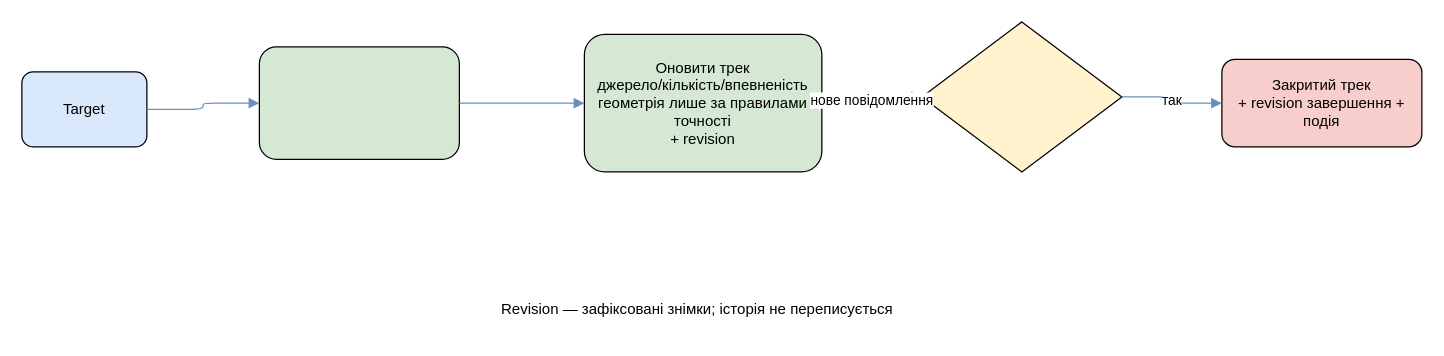
Some shapes in this 1444 by 356 pixel diagram are drawn without their labels. The centre of each missing label's shape, as x and y in pixels:
"Немає оновлень протягом CloseAfterWindows (інтервал watchdog)" belongs at pixel 1021 96.
"Створити активний трек + зв'язок із target + revision" belongs at pixel 358 102.
